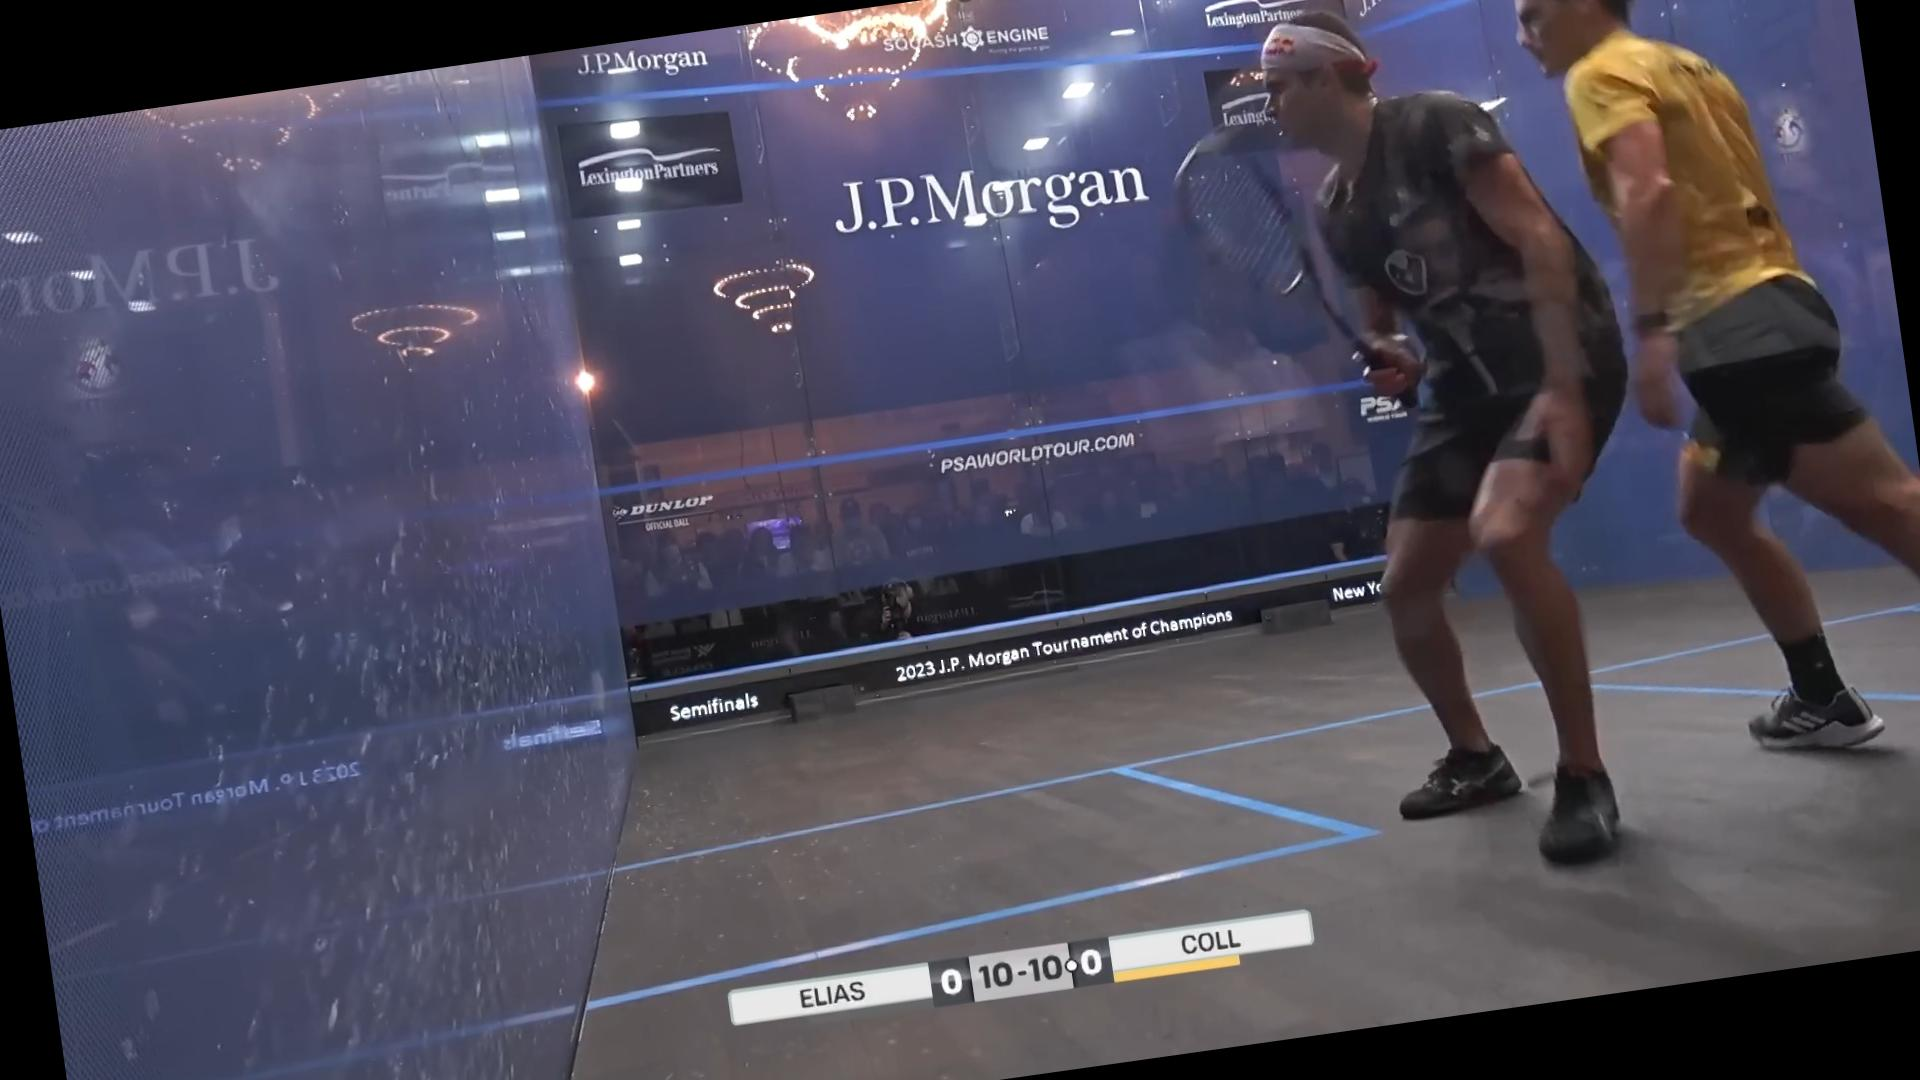Racket: (1150, 112, 1378, 405)
